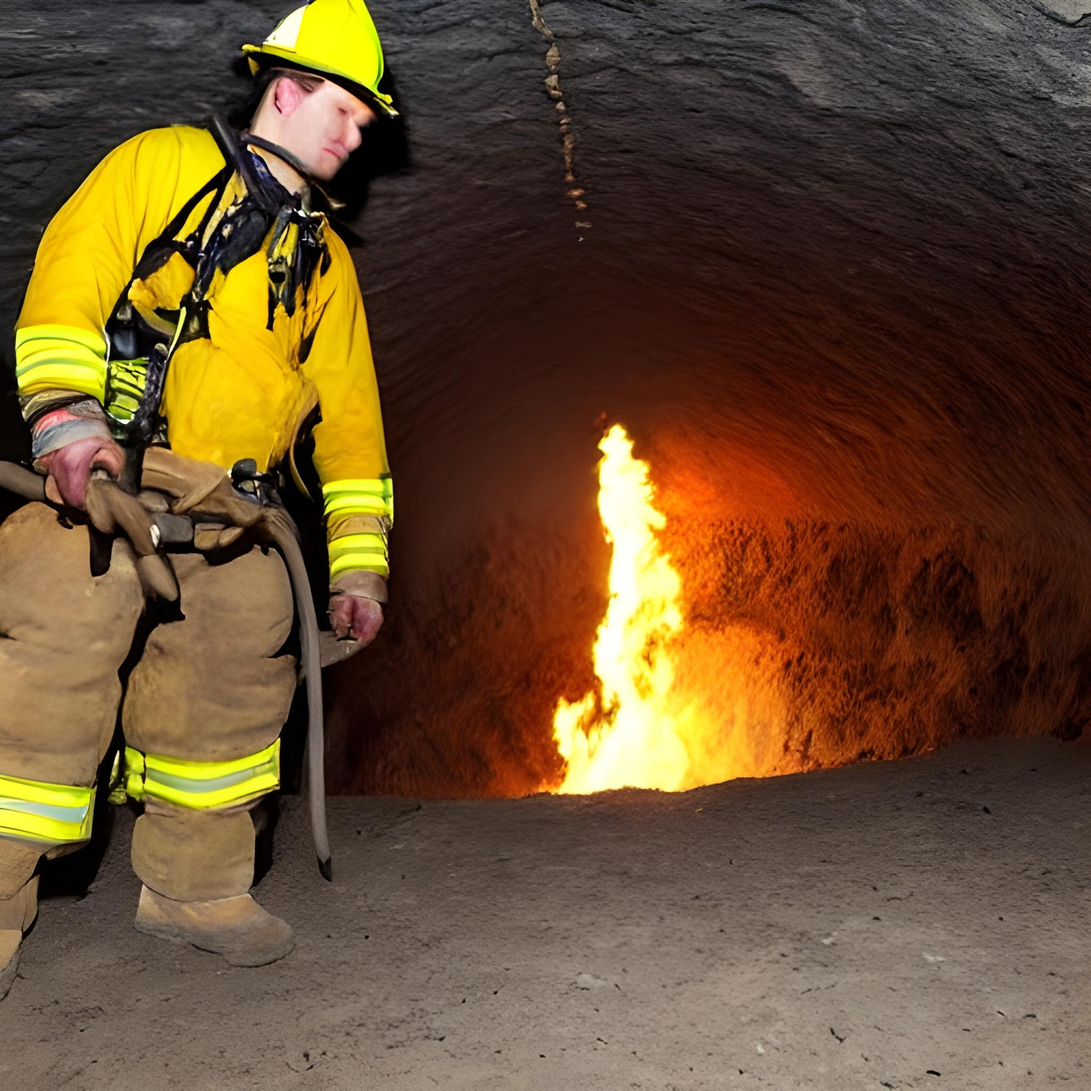fire: (446, 389, 869, 862)
